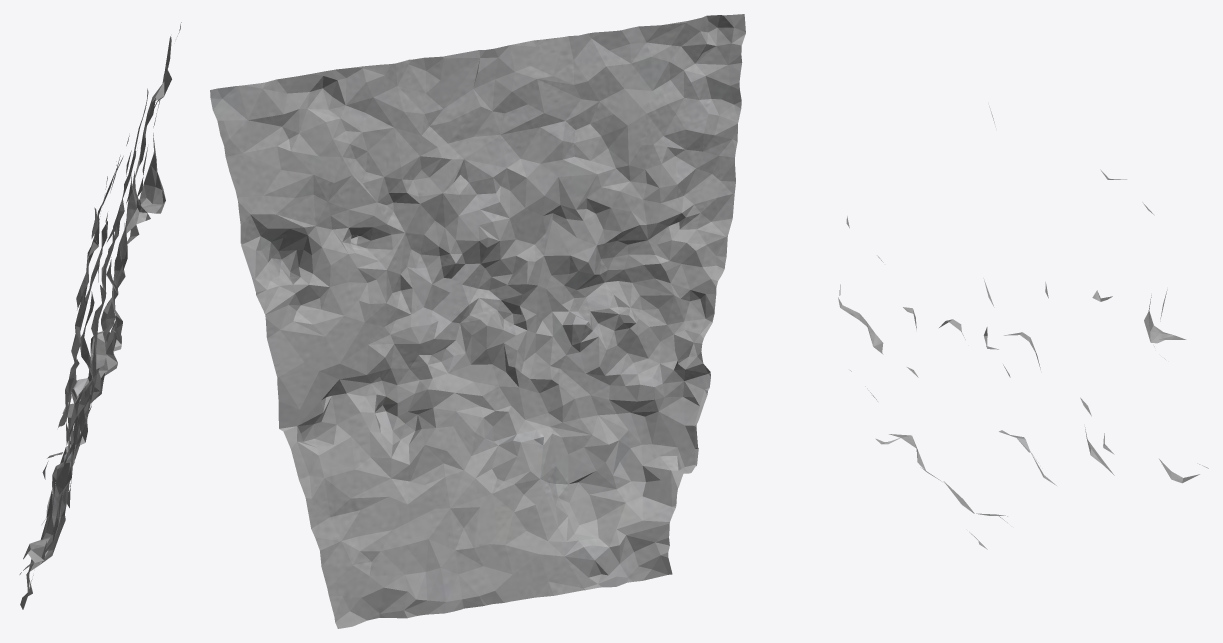
3 views of the same model, side by side, from view 1: azimuth 30°, elevation 25°; view 2: azimuth 150°, elevation 25°; view 3: azimuth 270°, elevation 25° (orthographic). The views are drawn at different scales.
Size of the model in its own units: 0.5574 by 0.8374 by 0.6368.
2 materials, 2 textured.
